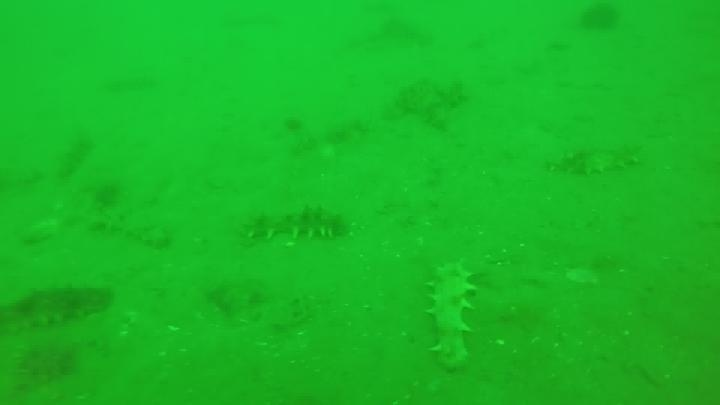echinus: (577, 2, 623, 35)
holothurian: (423, 258, 479, 373), (2, 281, 114, 334), (236, 203, 349, 245), (390, 74, 469, 131), (545, 139, 646, 179), (85, 208, 173, 251), (53, 133, 97, 182)
